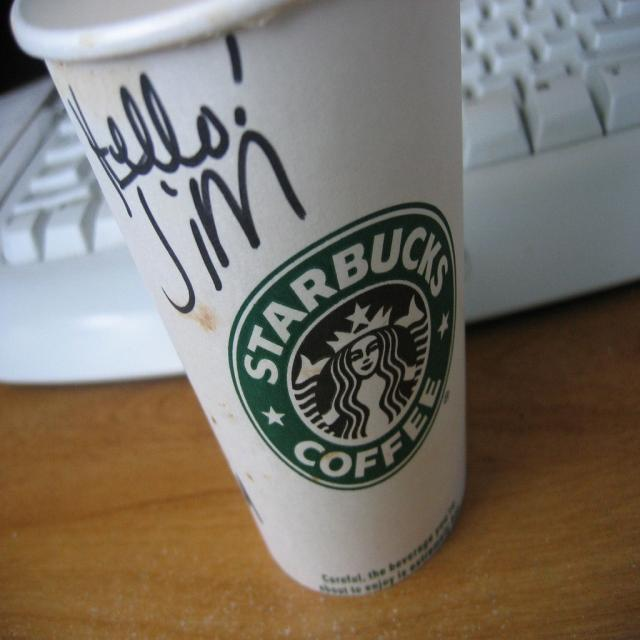starbucks: (227, 202, 457, 493)
